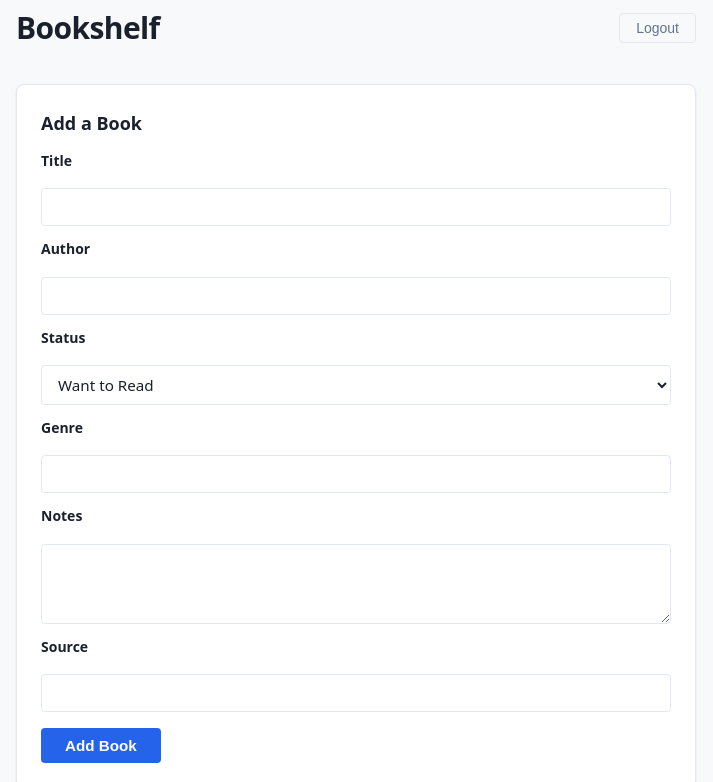
Scenario: App › adds a new book and displays it in the list
Type "1984" into the field labelled "Title" at (356, 207), box x1=41 y1=188 x2=671 y2=226
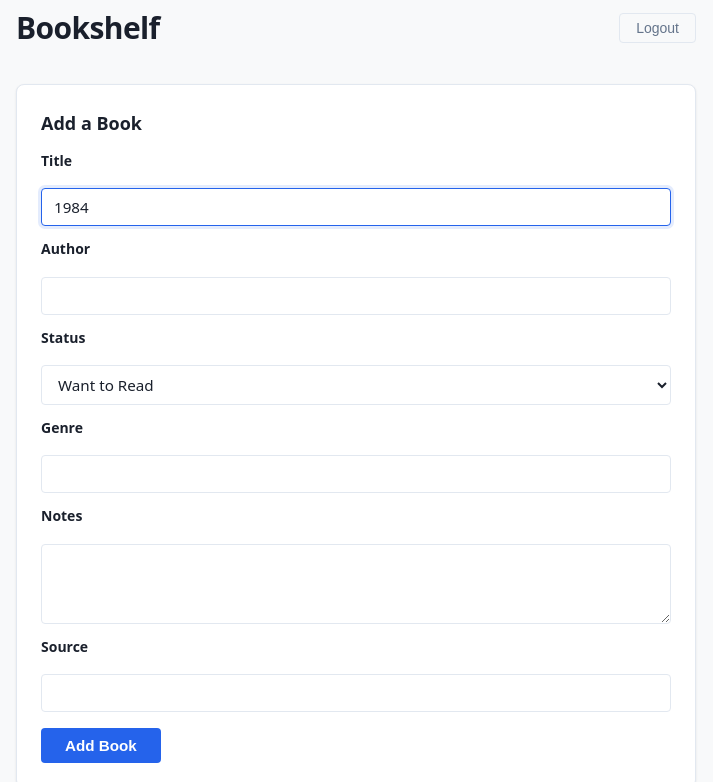
Type "George Orwell" into the field labelled "Author" at (356, 296), box x1=41 y1=277 x2=671 y2=315
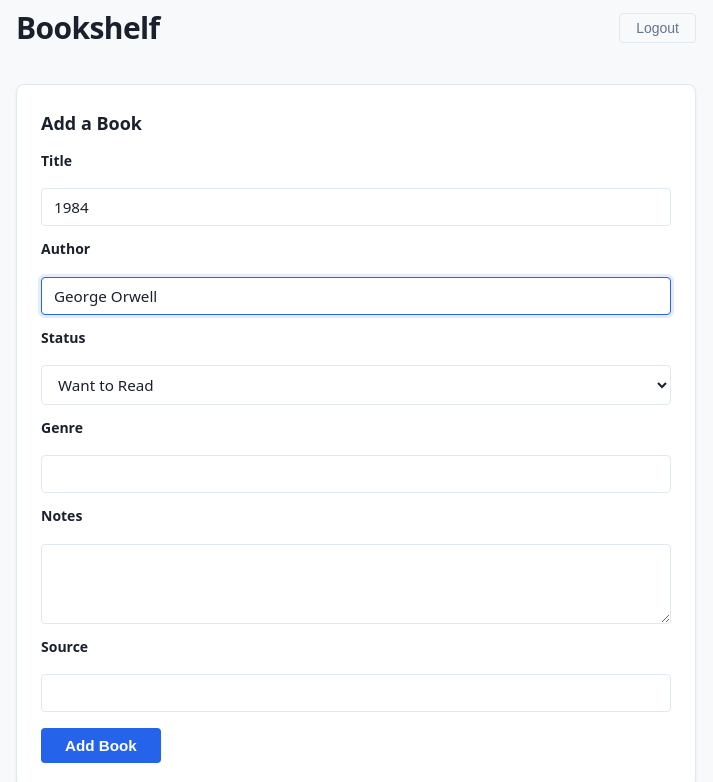
Click the button "Add Book" at (101, 745), box x1=41 y1=728 x2=161 y2=763
(page scrolled)
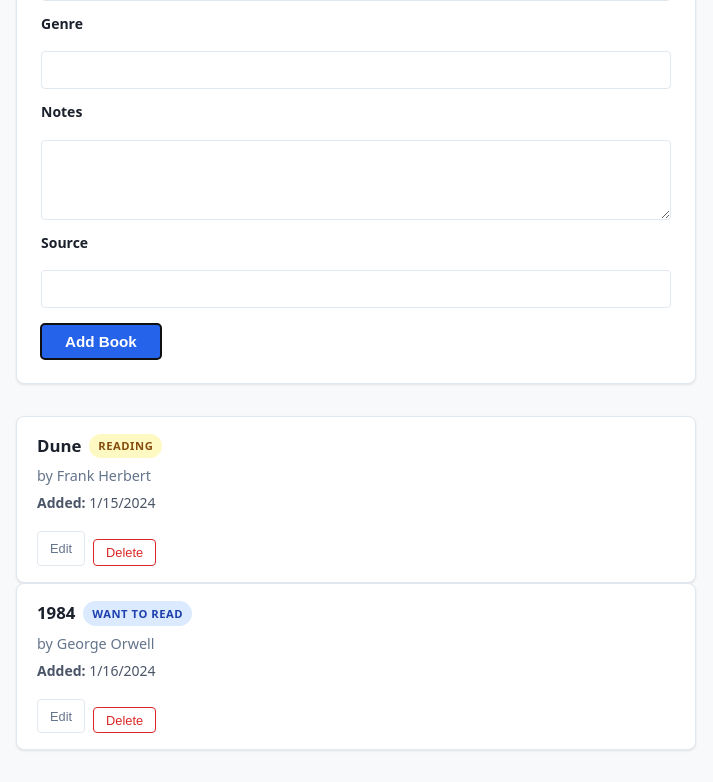
Expected: the heading "1984 want to read" is shown, x1=37 y1=601 x2=192 y2=626
